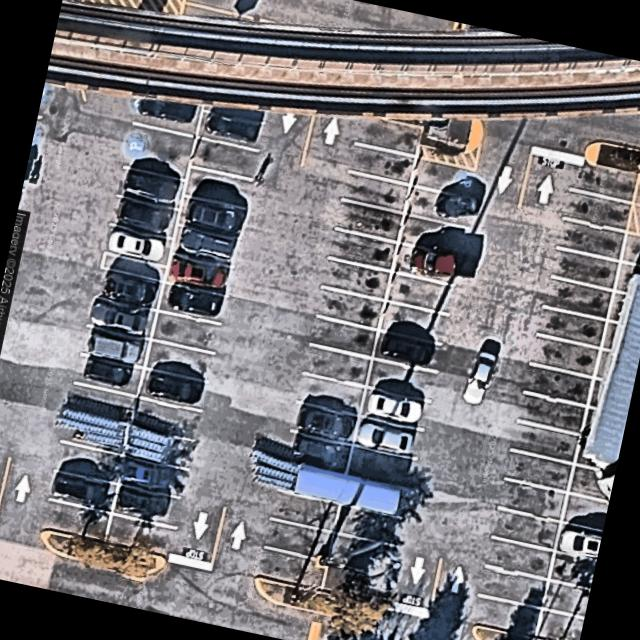car: (351, 418, 416, 458), (164, 252, 229, 292), (100, 270, 160, 311), (48, 470, 111, 509), (183, 197, 247, 235), (293, 403, 356, 441), (173, 225, 236, 263), (104, 228, 168, 265), (87, 299, 149, 337), (404, 241, 460, 283), (144, 368, 204, 407), (376, 329, 436, 367), (85, 329, 146, 366), (121, 167, 180, 205), (202, 108, 262, 145), (116, 455, 176, 492), (165, 283, 223, 321), (115, 196, 173, 234), (363, 389, 424, 425), (288, 431, 344, 470), (431, 184, 485, 224), (111, 484, 169, 520), (134, 95, 198, 126), (81, 354, 135, 389), (556, 525, 602, 559)
lot_boundary: (0, 79, 640, 640)
objects: (580, 272, 640, 502), (247, 455, 409, 518), (255, 577, 379, 620), (41, 530, 162, 574), (382, 119, 483, 170), (56, 411, 128, 456), (124, 426, 193, 470), (584, 141, 640, 174), (470, 625, 547, 640), (626, 173, 640, 234)
stall: (122, 123, 194, 179), (196, 103, 264, 149), (129, 96, 200, 137), (378, 301, 446, 343), (392, 243, 460, 285), (398, 215, 466, 257), (366, 359, 434, 401), (326, 533, 394, 575), (150, 310, 218, 352), (68, 383, 136, 425), (164, 253, 232, 295), (94, 269, 162, 311), (184, 166, 252, 208), (316, 287, 383, 329), (310, 316, 377, 358), (283, 431, 350, 473), (289, 403, 356, 445), (297, 373, 364, 415), (303, 344, 370, 386), (385, 272, 452, 314), (404, 185, 471, 227), (353, 415, 420, 457), (360, 387, 427, 429), (270, 489, 337, 531), (333, 503, 400, 545), (346, 445, 413, 487), (353, 112, 420, 154), (259, 548, 326, 590), (319, 565, 386, 607), (265, 519, 332, 561), (111, 485, 178, 527), (118, 455, 185, 497), (130, 397, 197, 439), (137, 369, 204, 411), (144, 339, 211, 381), (50, 472, 117, 514), (42, 499, 109, 541), (104, 516, 171, 558), (76, 355, 143, 397), (56, 441, 123, 483), (103, 224, 170, 266), (163, 251, 230, 293), (157, 281, 224, 323), (87, 297, 154, 339), (82, 325, 149, 367), (190, 137, 257, 179), (117, 168, 184, 210), (177, 195, 244, 237), (111, 197, 178, 239), (170, 225, 237, 267), (371, 331, 438, 372), (518, 394, 584, 434), (511, 422, 577, 462), (504, 450, 570, 490), (499, 480, 565, 520), (493, 508, 559, 548), (487, 538, 553, 578), (479, 567, 545, 607), (473, 595, 539, 635), (551, 248, 617, 288), (545, 278, 611, 318), (537, 306, 603, 346), (531, 336, 597, 376), (525, 366, 591, 406), (570, 162, 636, 202), (563, 190, 629, 230), (557, 218, 623, 258), (341, 172, 407, 212), (348, 144, 414, 184), (410, 158, 476, 198), (323, 259, 389, 299), (329, 231, 395, 271), (335, 202, 401, 242), (101, 254, 167, 281), (549, 553, 596, 589), (555, 522, 602, 558), (543, 581, 590, 617), (561, 494, 608, 530), (567, 464, 614, 500), (575, 436, 621, 472), (588, 379, 633, 415), (594, 350, 639, 386), (582, 408, 626, 444), (536, 608, 584, 640), (600, 321, 640, 357), (606, 291, 640, 327), (613, 261, 640, 297), (620, 232, 640, 267)
